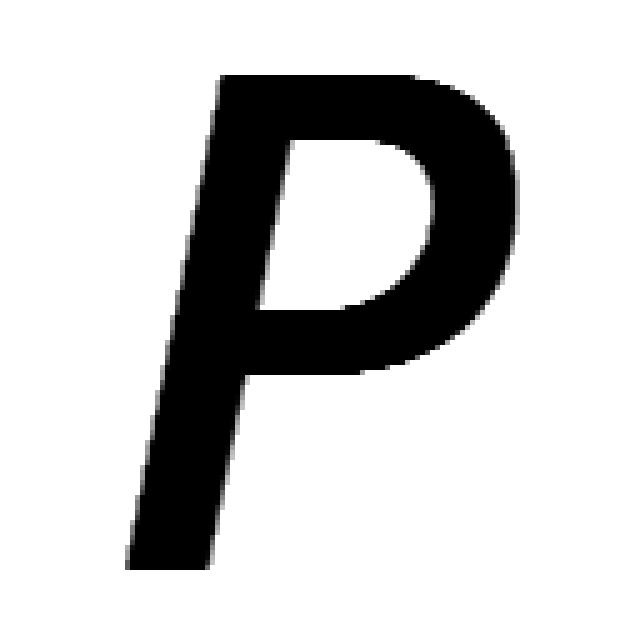P: (130, 75, 520, 575)
